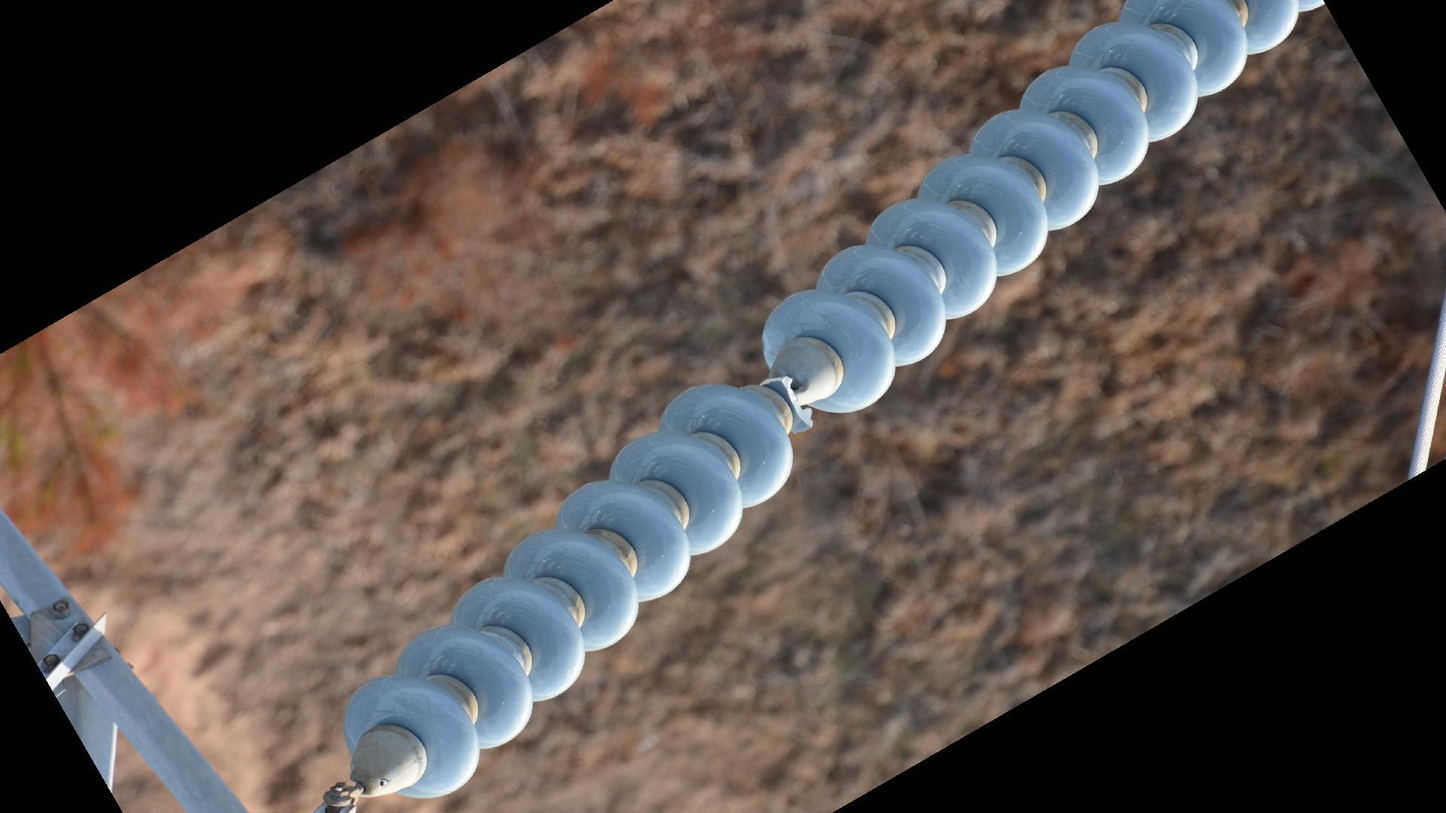insulator: (752, 1, 1326, 414), (336, 376, 802, 799)
insulator_breakage: (752, 370, 819, 437)
